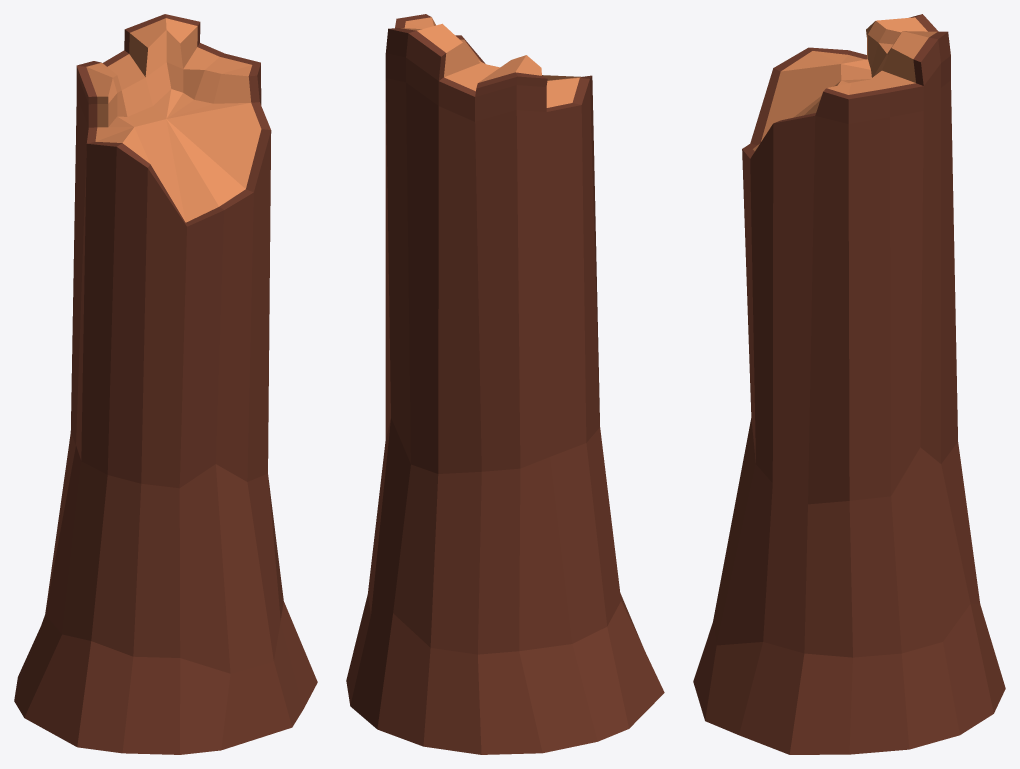
Rendered from pine_trunk_type_9_LOD0.fbx.
3 views of the same model, side by side, from view 1: azimuth 30°, elevation 25°; view 2: azimuth 150°, elevation 25°; view 3: azimuth 270°, elevation 25° (orthographic). The views are drawn at different scales.
Parts seen in each view (by area): view 1: pt_type_9; view 2: pt_type_9; view 3: pt_type_9.
Boxes of the visible parts, x1,y1,x2,y2 form: pt_type_9: (14, 14, 317, 754); pt_type_9: (346, 14, 664, 754); pt_type_9: (693, 14, 1005, 754).
Size of the model in its own units: 160 by 380 by 160.
